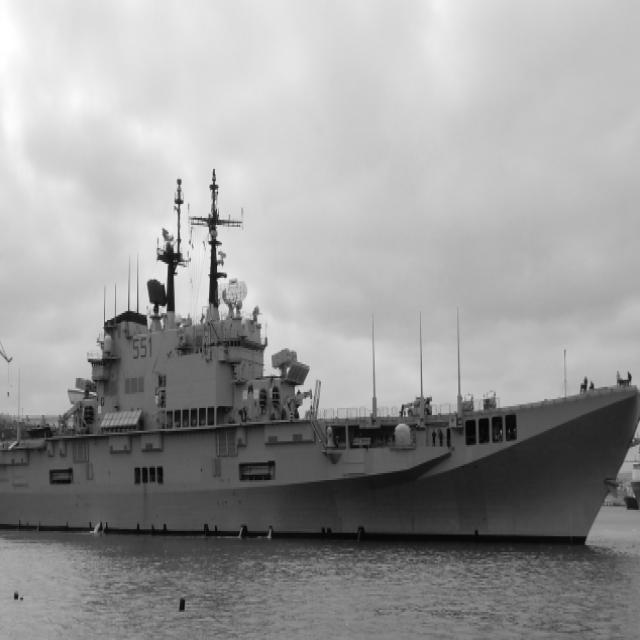Portanaves: (1, 170, 640, 562)
